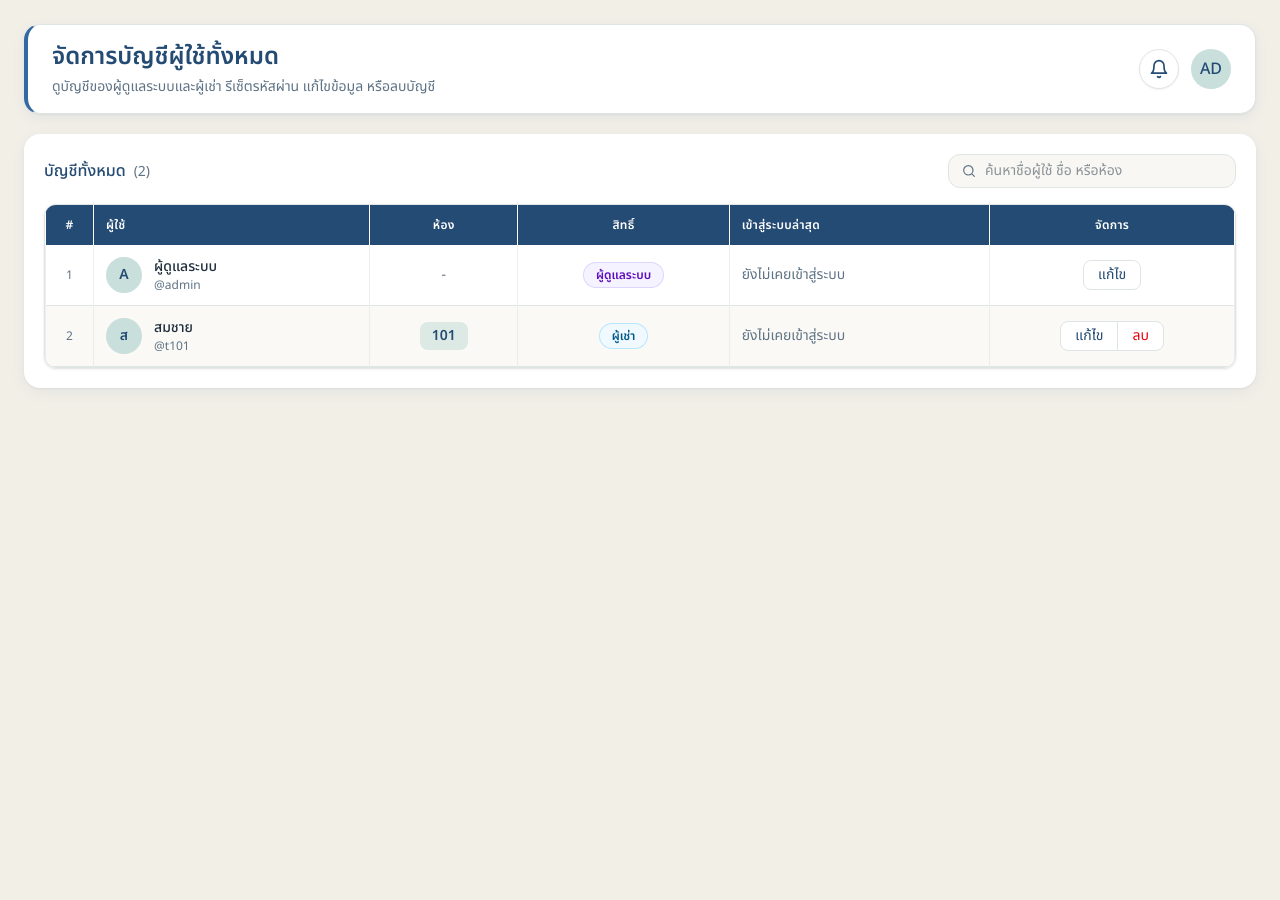
Test: หน้าจัดการบัญชี: การตั้งรหัสผ่าน › เปิดหน้าต่างแก้ไข: ไม่มีช่องรหัสผ่านให้เบราว์เซอร์เติม มีแต่ปุ่มตั้งรหัสผ่านใหม่
Click the button "แก้ไข" in the row of "สมชาย".
click(1090, 336)  # box [1061,322,1118,350]
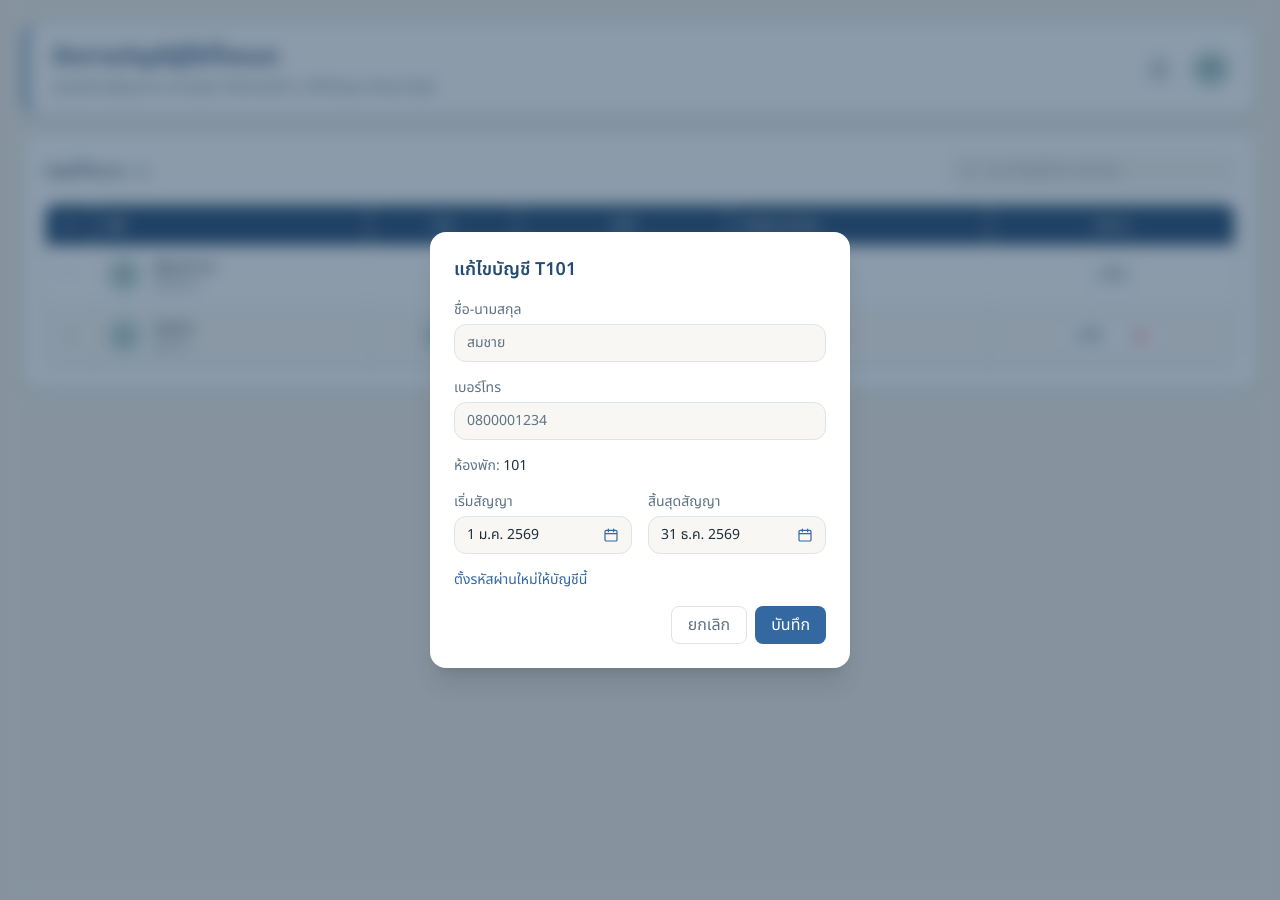
expect the button "ตั้งรหัสผ่านใหม่ให้บัญชีนี้" is shown: met, box [454,570,587,590]
